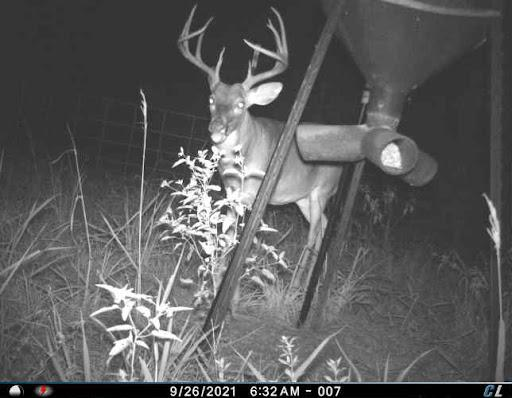Deer: (172, 0, 348, 307)
